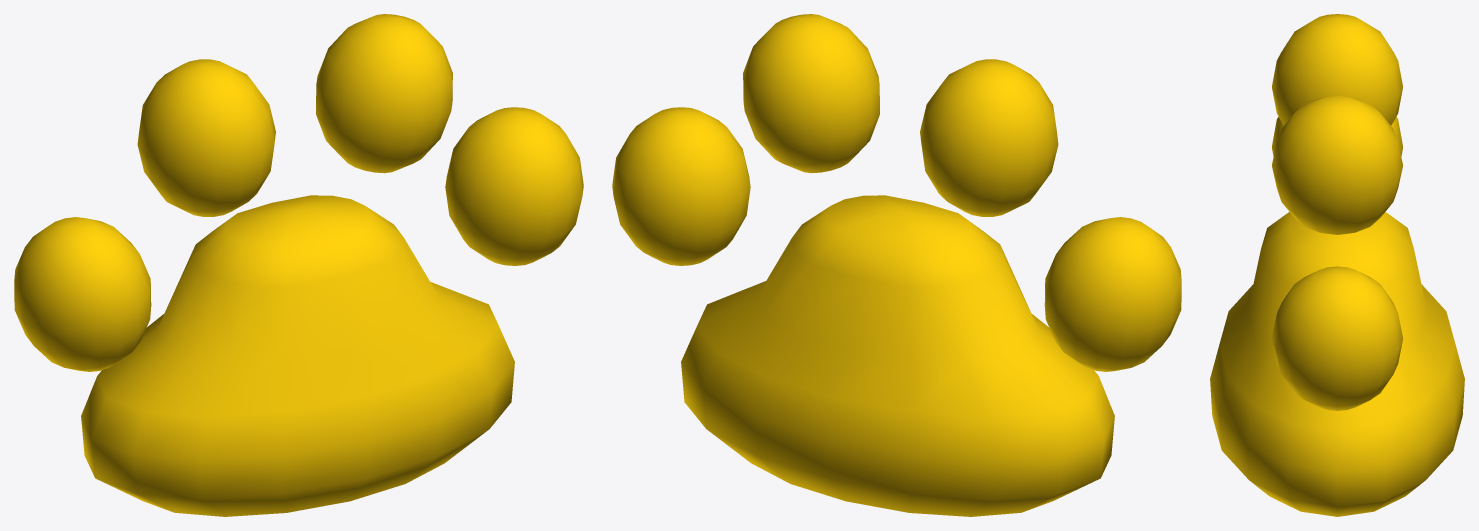
Rendered from Goal_Nikukyu.fbx.
The picture shows the model from 3 angles, left to right: view 1: azimuth 30°, elevation 25°; view 2: azimuth 150°, elevation 25°; view 3: azimuth 270°, elevation 25°; orthographic projection. The views are drawn at different scales.
Visible parts, largest first — view 1: Sphere, Sphere.002, Sphere.003; view 2: Sphere, Sphere.002, Sphere.003; view 3: Sphere, Sphere.002, Sphere.003.
Boxes of the visible parts, x1,y1,x2,y2 form: Sphere: [81, 195, 514, 516]; Sphere.002: [316, 14, 583, 265]; Sphere.003: [14, 59, 275, 371]; Sphere: [681, 195, 1114, 516]; Sphere.002: [612, 14, 879, 265]; Sphere.003: [920, 59, 1181, 371]; Sphere: [1210, 212, 1464, 516]; Sphere.002: [1271, 96, 1403, 410]; Sphere.003: [1272, 14, 1402, 156].
Bounding box in the file's own units: 3.57 × 2.78 × 1.55.
Materials: 1 (1 with a texture image).
